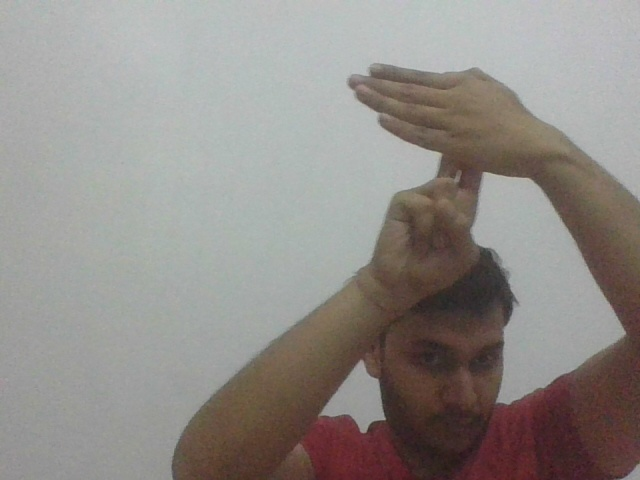N: (345, 58, 531, 192)
